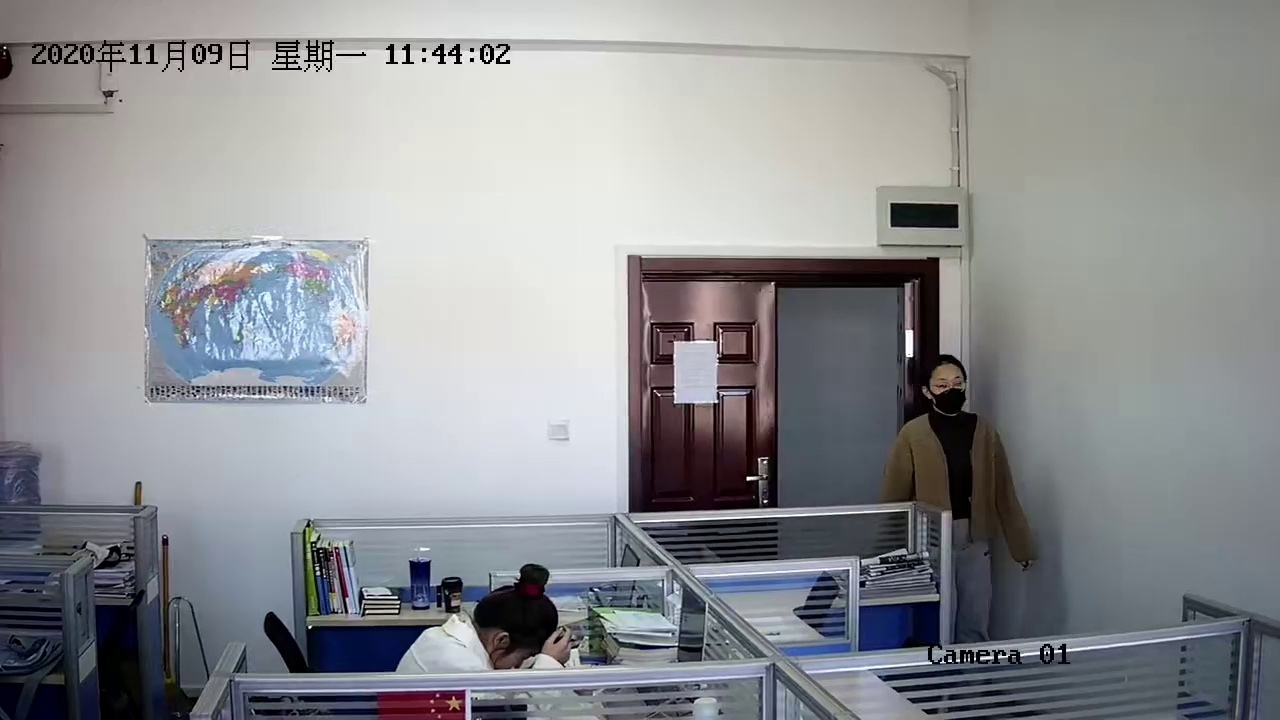mask: (927, 360, 974, 421)
